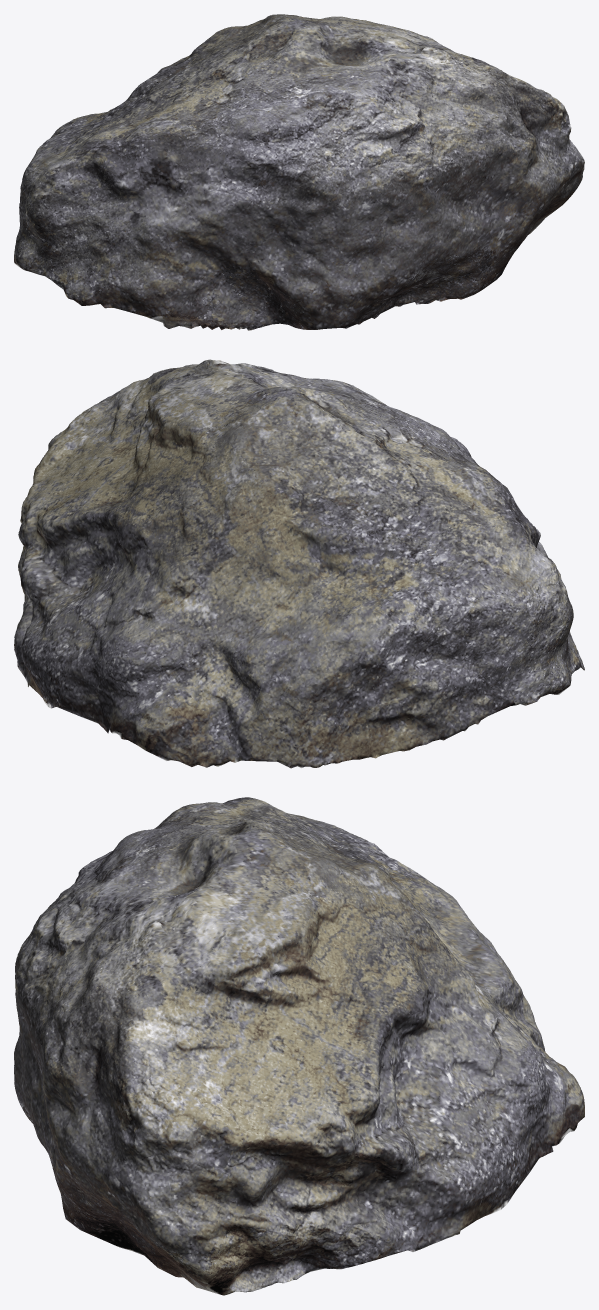
Rendered from sparse1.glb.
The picture shows the model from 3 angles, top to bottom: view 1: azimuth 30°, elevation 25°; view 2: azimuth 150°, elevation 25°; view 3: azimuth 270°, elevation 25°; orthographic projection. The views are drawn at different scales.
Parts seen in each view (by area): view 1: Node; view 2: Node; view 3: Node.
Part boxes in pixels (x1,y1,x2,y2): Node: (14,14,584,330); Node: (14,359,584,768); Node: (14,797,584,1295).
Size of the model in its own units: 4.57 by 2.1 by 3.4.
1 material, 1 textured.
